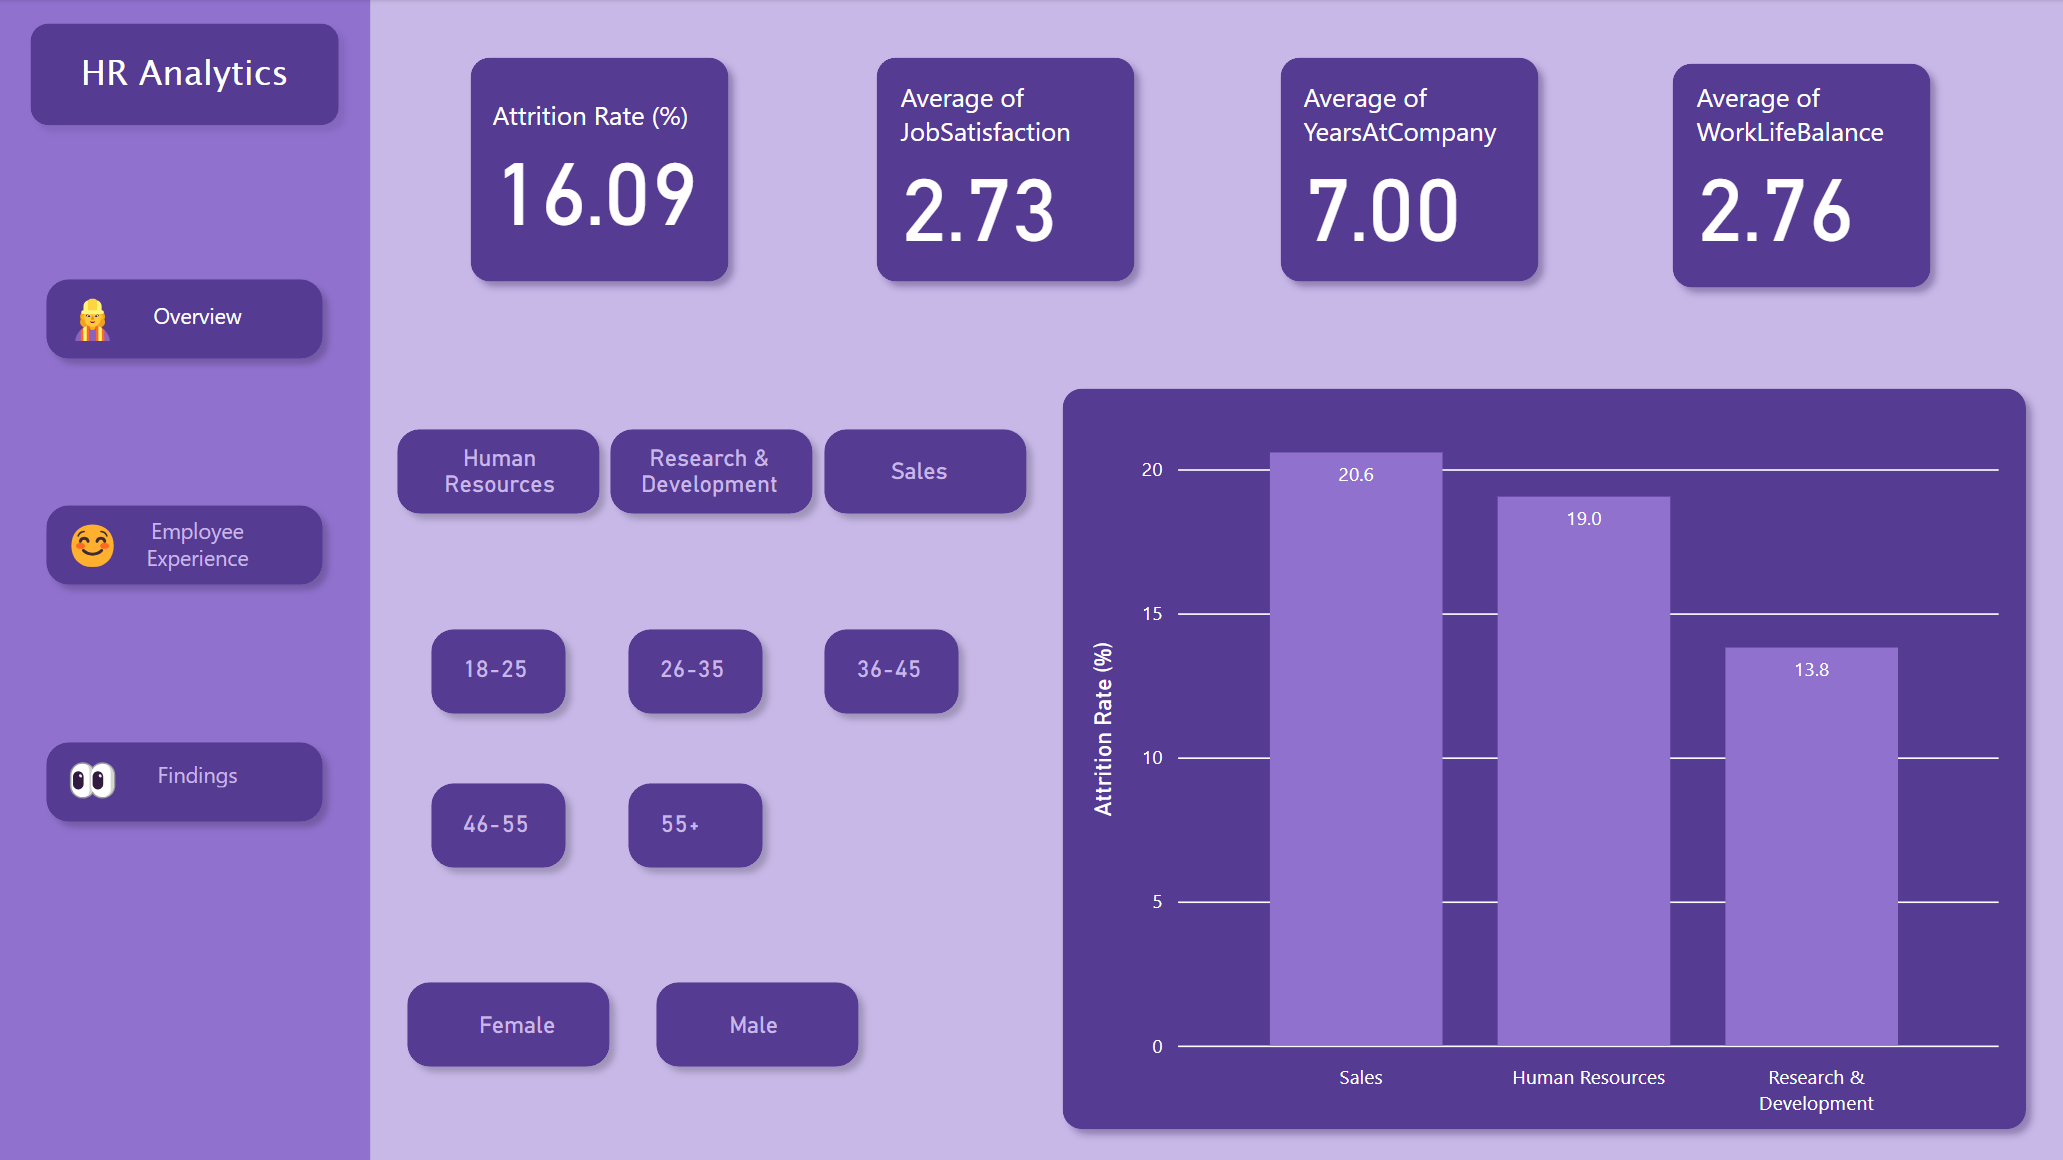

What the dashboard file says about the page in this screenshot:
{"tool":"powerbi","page":{"name":"Overview","canvas":[1280,720],"ordinal":0},"visuals":[{"type":"shape","box":[650,232.4,615.3,477.1],"z":0},{"type":"shape","box":[1028,31,177.8,156.8],"z":1000},{"type":"shape","box":[785.1,27.3,177.8,156.8],"z":2000},{"type":"shape","box":[534.7,27.3,177.8,156.8],"z":3000},{"type":"shape","box":[283.2,27.3,177.8,156.8],"z":4000},{"type":"shape","box":[259,381.7,101,70],"z":5000},{"type":"shape","box":[502.5,381.7,101,70],"z":6000},{"type":"shape","box":[381.1,381.7,101,70],"z":7000},{"type":"shape","box":[259,477.1,101,70],"z":8000},{"type":"shape","box":[381.1,477.1,101,70],"z":9000},{"type":"advancedSlicerVisual","fields":{"Values":["HR_Analytics.AgeGroup"]},"box":[269.5,366.2,370.5,195.2],"z":10000},{"type":"shape","box":[502.5,257.8,143.1,70],"z":11000},{"type":"shape","box":[369.9,257.8,143.1,70],"z":12000},{"type":"shape","box":[237.9,257.8,143.1,70],"z":13000},{"type":"shape","box":[398.4,600.4,143.1,70],"z":14000},{"type":"shape","box":[0,0,230.5,720],"z":15000},{"type":"shape","box":[244.1,600.4,143.1,70],"z":16000},{"type":"shape","box":[20.4,164.8,189,66.9],"z":17000},{"type":"shape","box":[20.4,304.9,189,66.9],"z":18000},{"type":"shape","box":[20.4,451.7,189,66.9],"z":19000},{"type":"pageNavigator","box":[64.4,129.5,117.7,417.6],"z":20000},{"type":"shape","box":[10.5,5.9,209.4,81.1],"z":21000},{"type":"textbox","box":[34.7,25.5,161,50.4],"z":22000},{"type":"textbox","box":[34.7,174.1,47.7,47.7],"z":23000},{"type":"cardVisual","fields":{"Data":["HR_Analytics.Attrition Rate (%)"]},"box":[288.7,31,166.1,149.9],"z":24000},{"type":"cardVisual","fields":{"Data":["Avg(HR_Analytics.JobSatisfaction)"]},"box":[541.5,31,164.2,149.9],"z":25000},{"type":"cardVisual","fields":{"Data":["Avg(HR_Analytics.YearsAtCompany)"]},"box":[791.3,31,166.1,149.9],"z":26000},{"type":"cardVisual","fields":{"Data":["Avg(HR_Analytics.WorkLifeBalance)"]},"box":[1034.8,31,164.2,149.9],"z":27000},{"type":"clusteredColumnChart","fields":{"Category":["HR_Analytics.Department"],"Y":["HR_Analytics.Attrition Rate (%)"]},"box":[671,242.9,573.1,456.7],"z":28000},{"type":"advancedSlicerVisual","fields":{"Values":["HR_Analytics.Department"]},"box":[244.1,232.4,401.5,120.2],"z":29000},{"type":"advancedSlicerVisual","fields":{"Values":["HR_Analytics.Gender"]},"box":[284.4,571.9,457.3,127.6],"z":30000},{"type":"textbox","box":[34.7,314.1,47.7,47.7],"z":31000},{"type":"textbox","box":[34.7,456.7,47.7,47.7],"z":32000}]}

Visuals, with their boxes in screenshot pixels (x1, y1, x2, y2), scaled from the page's 1280x720 canvas onto the 2063x1160 screenshot:
shape: Rect(1048, 374, 2039, 1143)
shape: Rect(1657, 50, 1943, 303)
shape: Rect(1265, 44, 1552, 297)
shape: Rect(862, 44, 1148, 297)
shape: Rect(456, 44, 743, 297)
shape: Rect(417, 615, 580, 728)
shape: Rect(810, 615, 973, 728)
shape: Rect(614, 615, 777, 728)
shape: Rect(417, 769, 580, 881)
shape: Rect(614, 769, 777, 881)
advancedSlicerVisual - HR_Analytics.AgeGroup: Rect(434, 590, 1032, 904)
shape: Rect(810, 415, 1041, 528)
shape: Rect(596, 415, 827, 528)
shape: Rect(383, 415, 614, 528)
shape: Rect(642, 967, 873, 1080)
shape: Rect(0, 0, 372, 1159)
shape: Rect(393, 967, 624, 1080)
shape: Rect(33, 266, 337, 373)
shape: Rect(33, 491, 337, 599)
shape: Rect(33, 728, 337, 836)
pageNavigator: Rect(104, 209, 293, 881)
shape: Rect(17, 10, 354, 140)
textbox: Rect(56, 41, 315, 122)
textbox: Rect(56, 280, 133, 357)
cardVisual - HR_Analytics.Attrition Rate (%): Rect(465, 50, 733, 291)
cardVisual - Avg(HR_Analytics.JobSatisfaction): Rect(873, 50, 1137, 291)
cardVisual - Avg(HR_Analytics.YearsAtCompany): Rect(1275, 50, 1543, 291)
cardVisual - Avg(HR_Analytics.WorkLifeBalance): Rect(1668, 50, 1932, 291)
clusteredColumnChart - HR_Analytics.Department x HR_Analytics.Attrition Rate (%): Rect(1081, 391, 2005, 1127)
advancedSlicerVisual - HR_Analytics.Department: Rect(393, 374, 1041, 568)
advancedSlicerVisual - HR_Analytics.Gender: Rect(458, 921, 1195, 1127)
textbox: Rect(56, 506, 133, 583)
textbox: Rect(56, 736, 133, 813)
